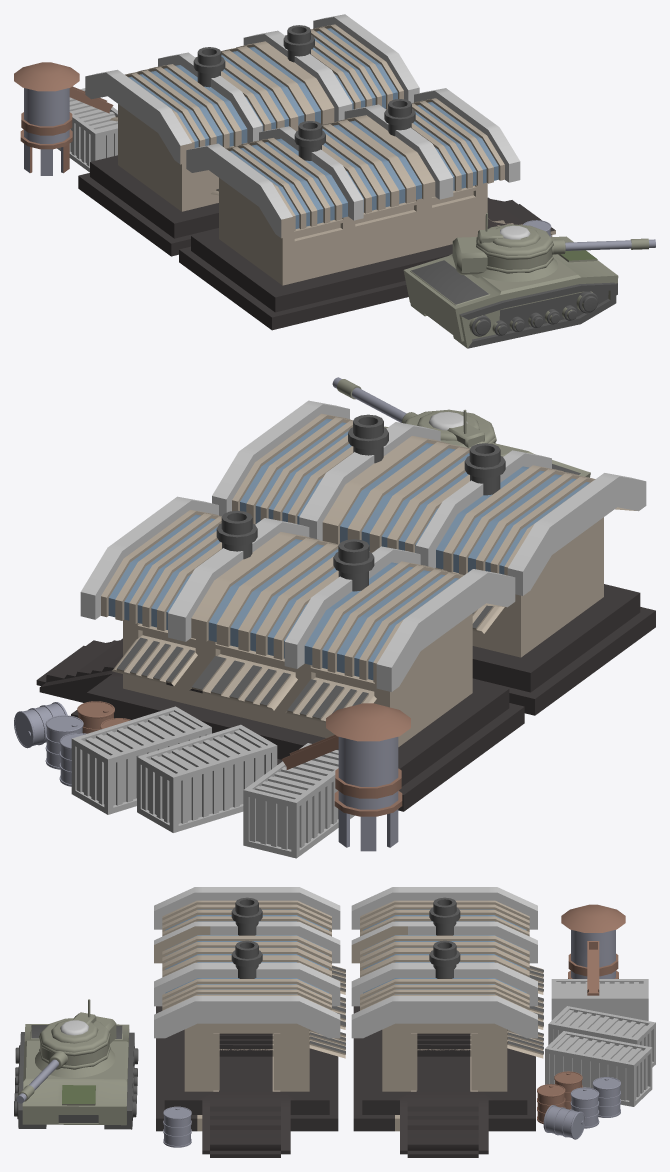
Rendered from 兵工厂.fbx.
The picture shows the model from 3 angles, top to bottom: view 1: azimuth 30°, elevation 25°; view 2: azimuth 150°, elevation 25°; view 3: azimuth 270°, elevation 25°; orthographic projection. The views are drawn at different scales.
Parts seen in each view (by area): view 1: 圆柱_28; view 2: 圆柱_28; view 3: 圆柱_28.
Part boxes in pixels (bbox=[...]): 圆柱_28: bbox=[14, 14, 655, 348]; 圆柱_28: bbox=[14, 377, 655, 858]; 圆柱_28: bbox=[14, 887, 655, 1157].
Bounding box in the file's own units: 202 × 83.9 × 330.
